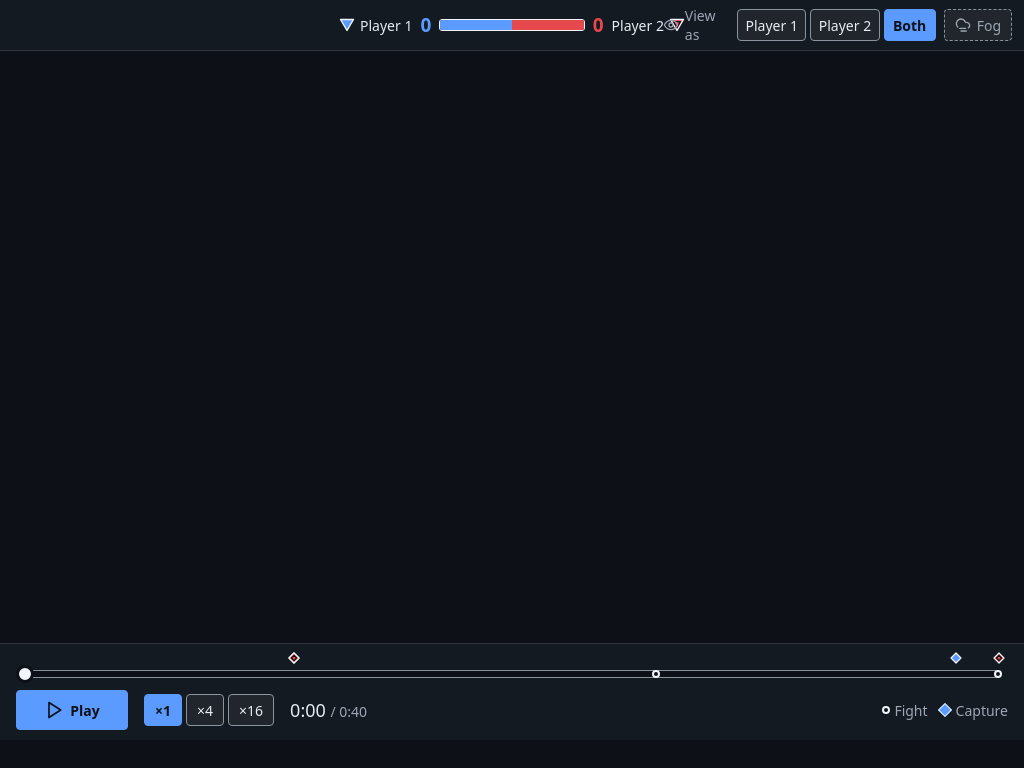
Scenario: ReplayViewer controls › seeks with the slider over the whole match
Set the slider named "Position in the match" to "300". click: (740, 674)
box: [16,662,1008,686]
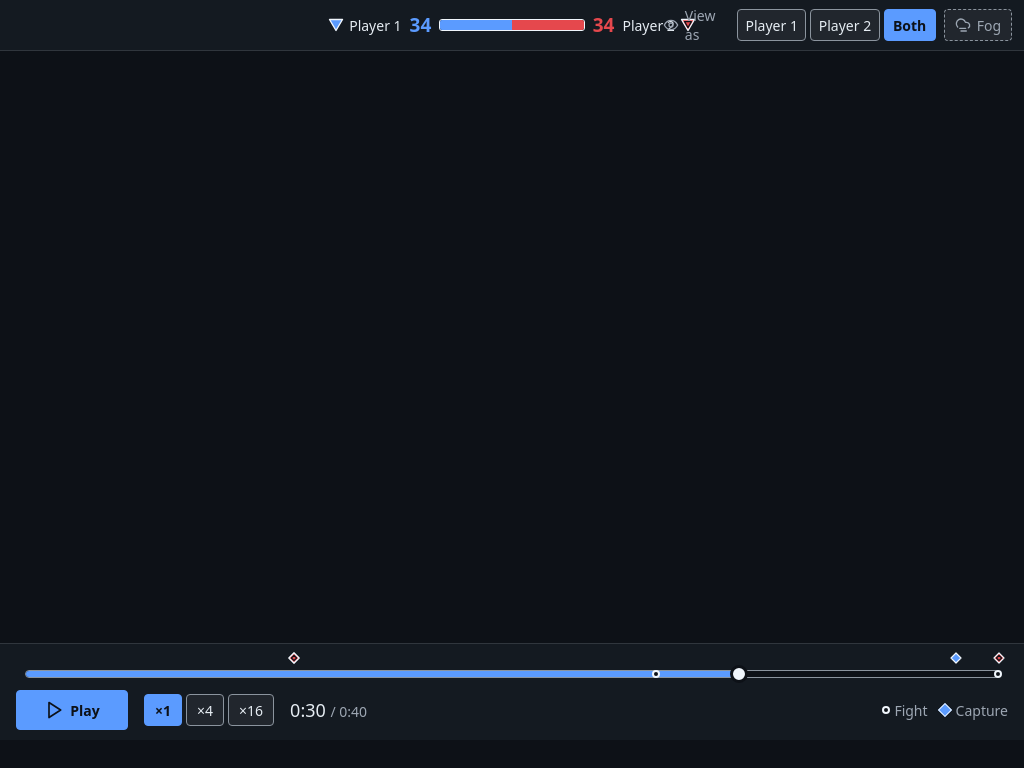
Check: the text "0:30 / 0:40" is shown, box [290,698,367,722]
